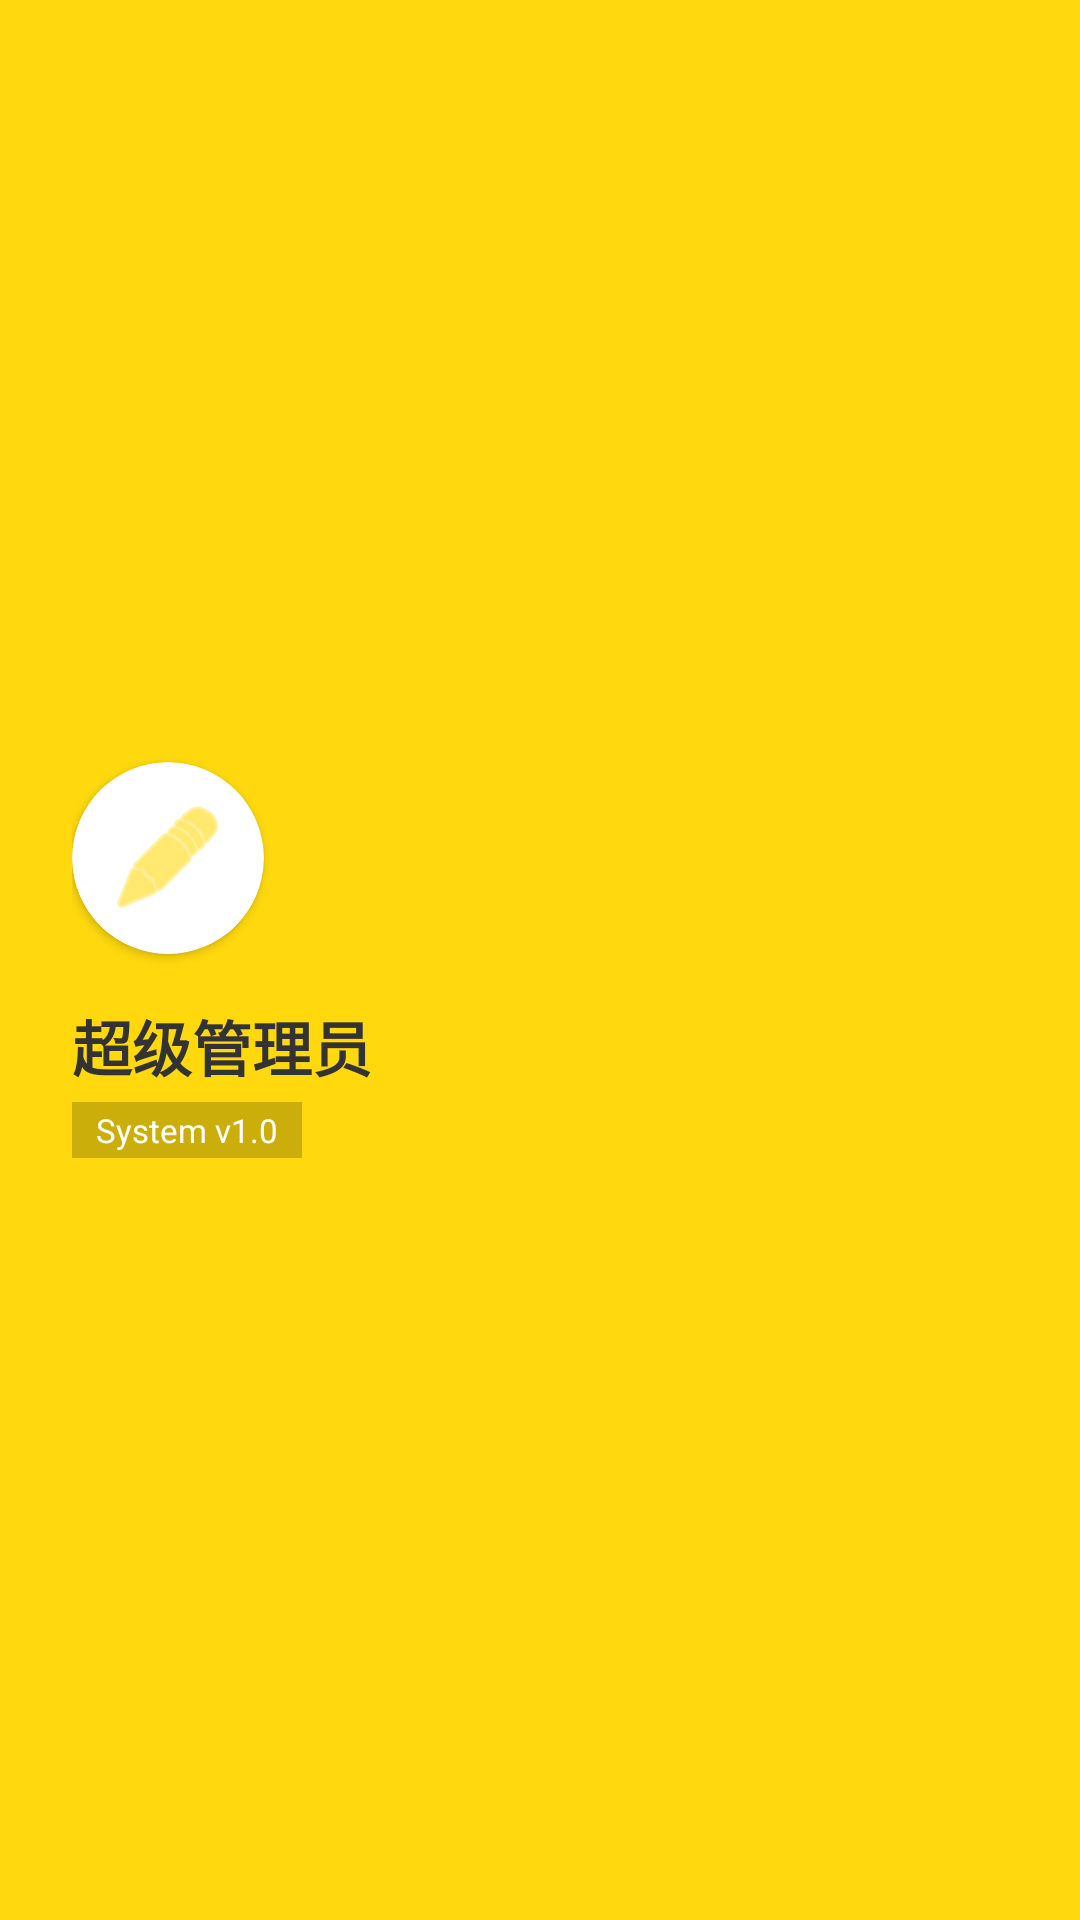

Named icons in this screenshot (1080px×1920px) and their centers, point (x, y):
edit: point (168, 858)
